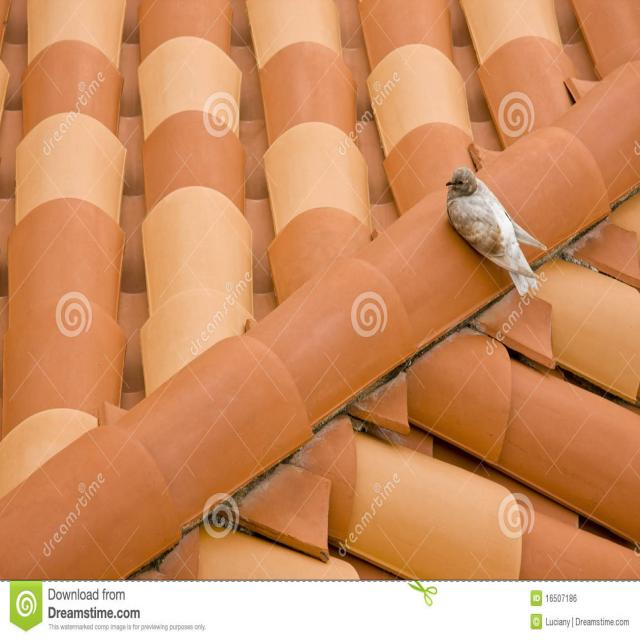bird: (444, 166, 547, 299)
